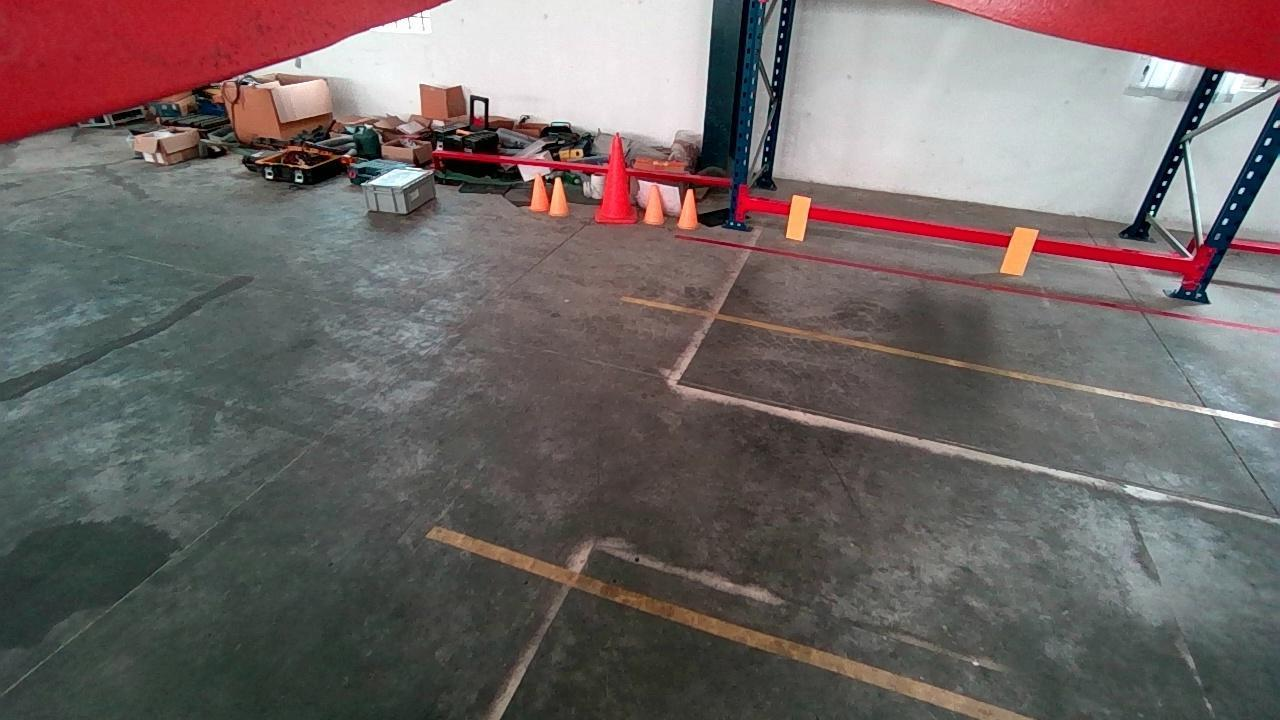h_rack: (747, 195, 1197, 276)
orange_strip: (1002, 228, 1039, 273), (787, 194, 811, 241)
red_line: (674, 229, 1279, 335)
yellow_line: (424, 524, 1037, 720), (618, 292, 1280, 432)
